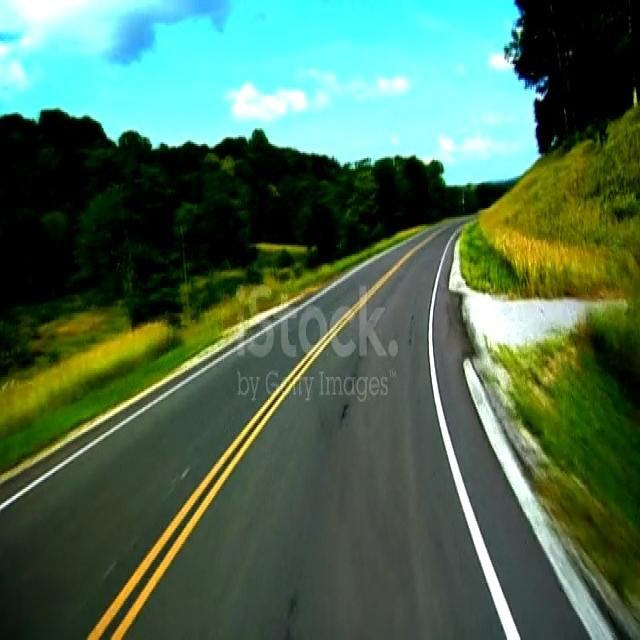lane: (90, 233, 435, 639), (1, 350, 232, 512), (429, 233, 520, 640), (269, 371, 280, 403)
road: (123, 223, 589, 637), (0, 233, 430, 637)
